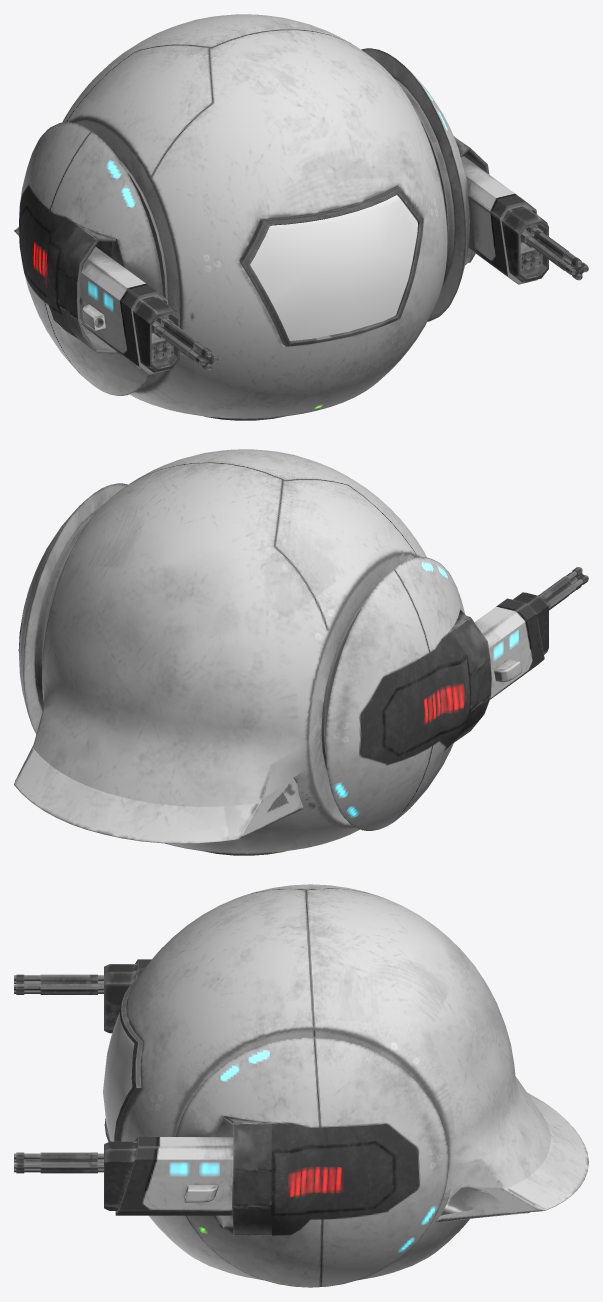
The model's file is whiteRobot.gltf.
3 views of the same model, one above another, from view 1: azimuth 30°, elevation 25°; view 2: azimuth 150°, elevation 25°; view 3: azimuth 270°, elevation 25° (orthographic).
Visible parts, largest first — view 1: glass; view 2: glass; view 3: glass.
Boxes of the visible parts, x1,y1,x2,y2 form: glass: [14, 14, 588, 420]; glass: [14, 449, 588, 855]; glass: [14, 884, 588, 1287].
Bounding box in the file's own units: 1.93 × 1.52 × 2.28.
